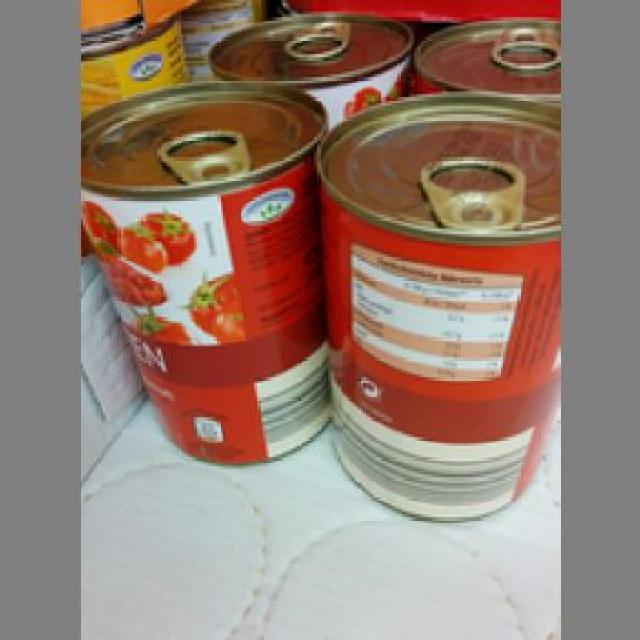Tomato Sauce: (308, 90, 554, 524), (80, 77, 326, 470)
